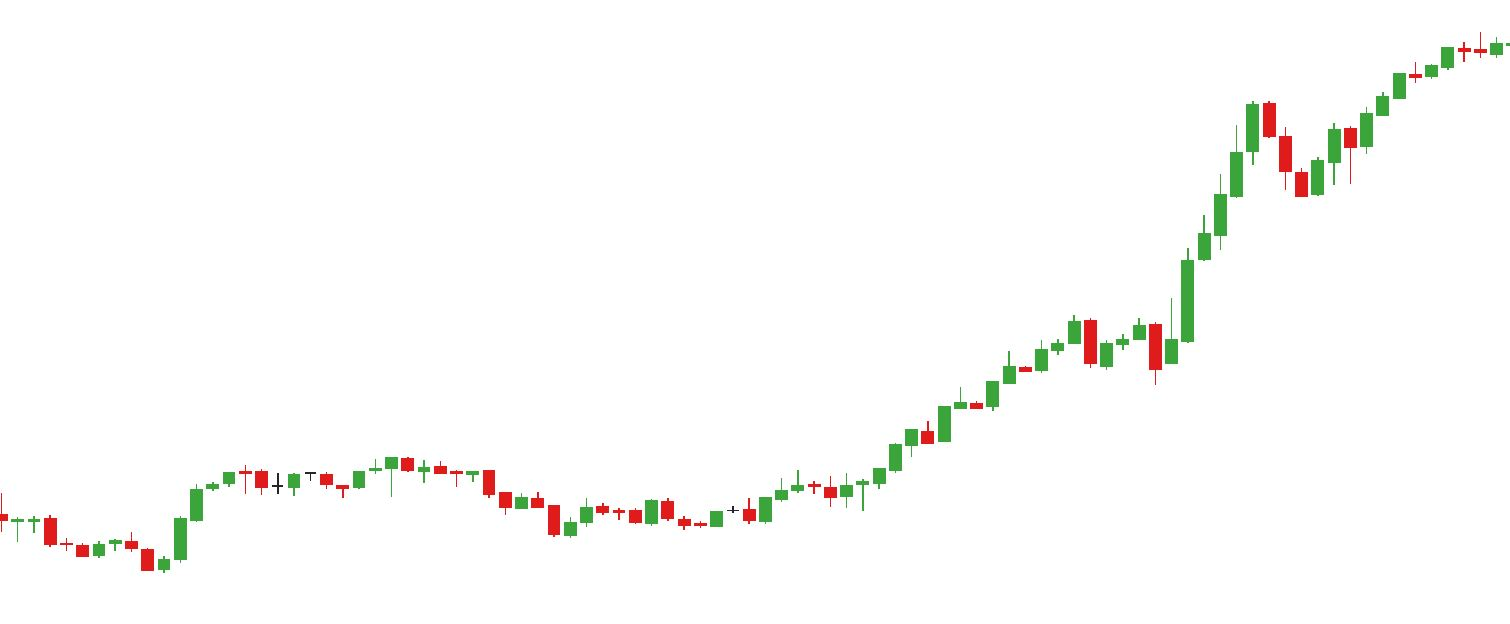buy: (1081, 310, 1181, 384)
